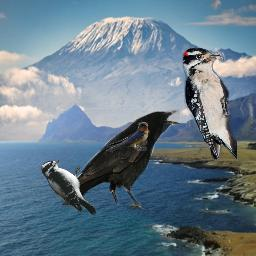Crow: (59, 108, 182, 213)
Swallow: (100, 122, 150, 151)
Woodpecker: (182, 47, 237, 161), (41, 159, 96, 215)
